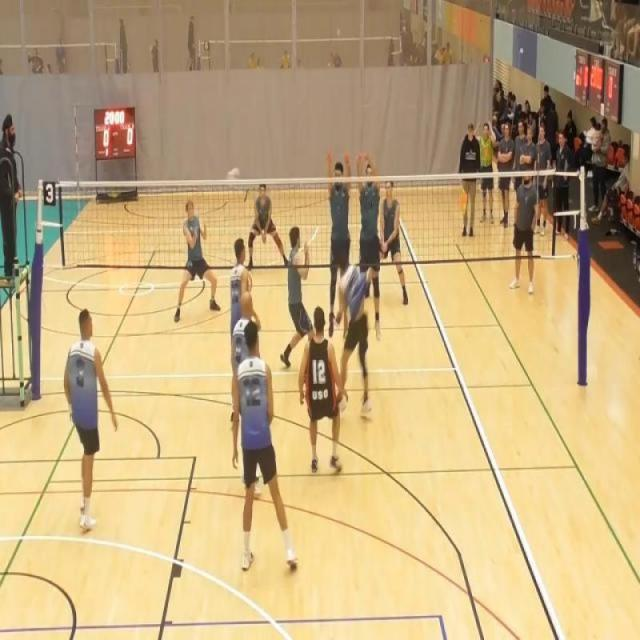volleyball: (226, 167, 241, 180), (336, 27, 340, 38)
